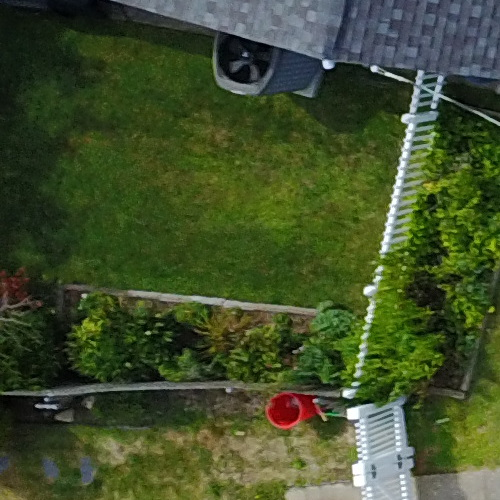air conditioner: (193, 27, 327, 122)
container: (255, 376, 322, 438)
